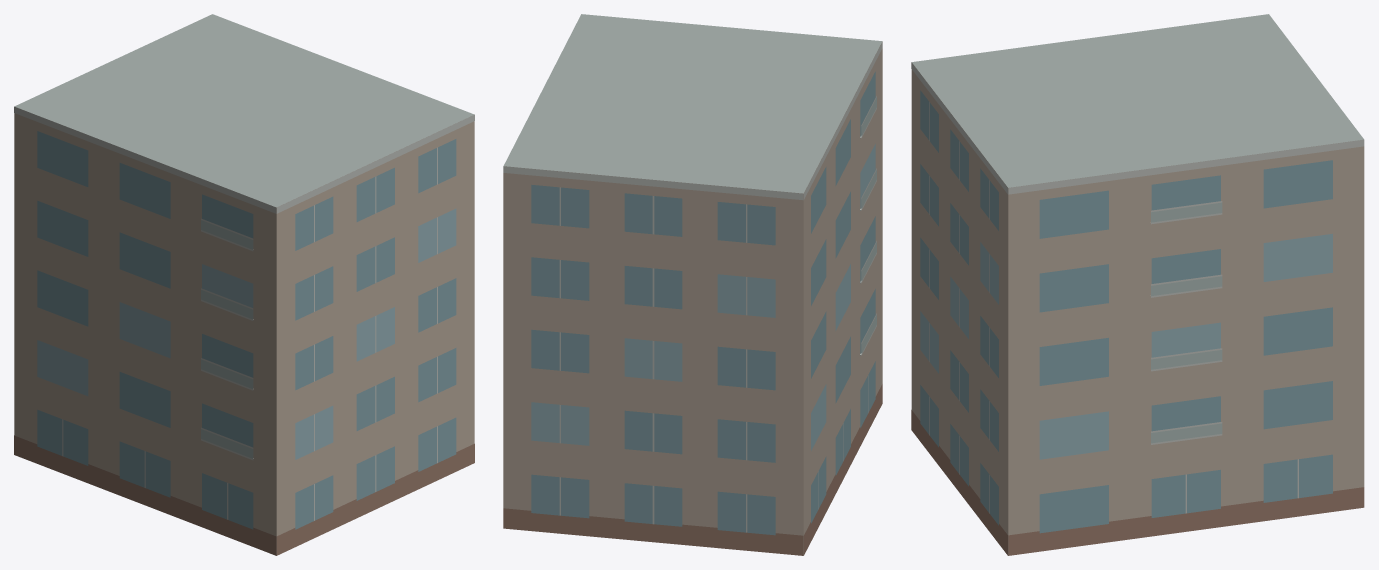
File: survey-upis-32894080.glb
The picture shows the model from 3 angles, left to right: view 1: azimuth 30°, elevation 25°; view 2: azimuth 150°, elevation 25°; view 3: azimuth 270°, elevation 25°; orthographic projection. The views are drawn at different scales.
Visible parts, largest first — view 1: survey-upis-32894080.tmp; view 2: survey-upis-32894080.tmp; view 3: survey-upis-32894080.tmp.
Boxes of the visible parts, <box> form: survey-upis-32894080.tmp: <box>14,14,474,555</box>; survey-upis-32894080.tmp: <box>503,14,882,555</box>; survey-upis-32894080.tmp: <box>911,14,1364,555</box>.
Bounding box in the file's own units: 13.38 × 13.2 × 14.73.
